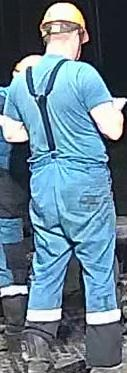helmet: (39, 1, 86, 31)
